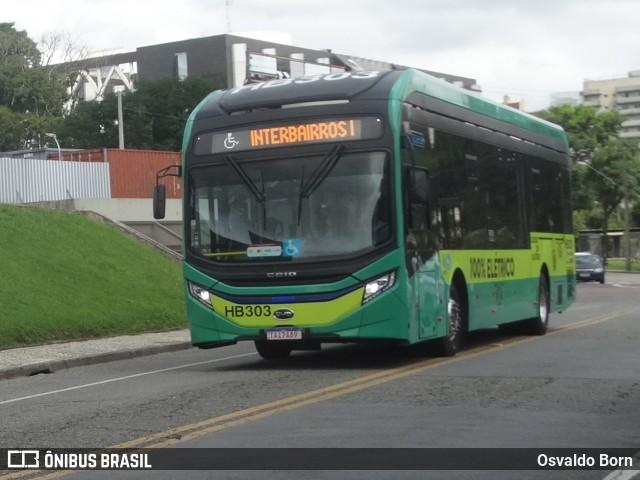INTERBAIRROS I: (244, 116, 362, 152)
